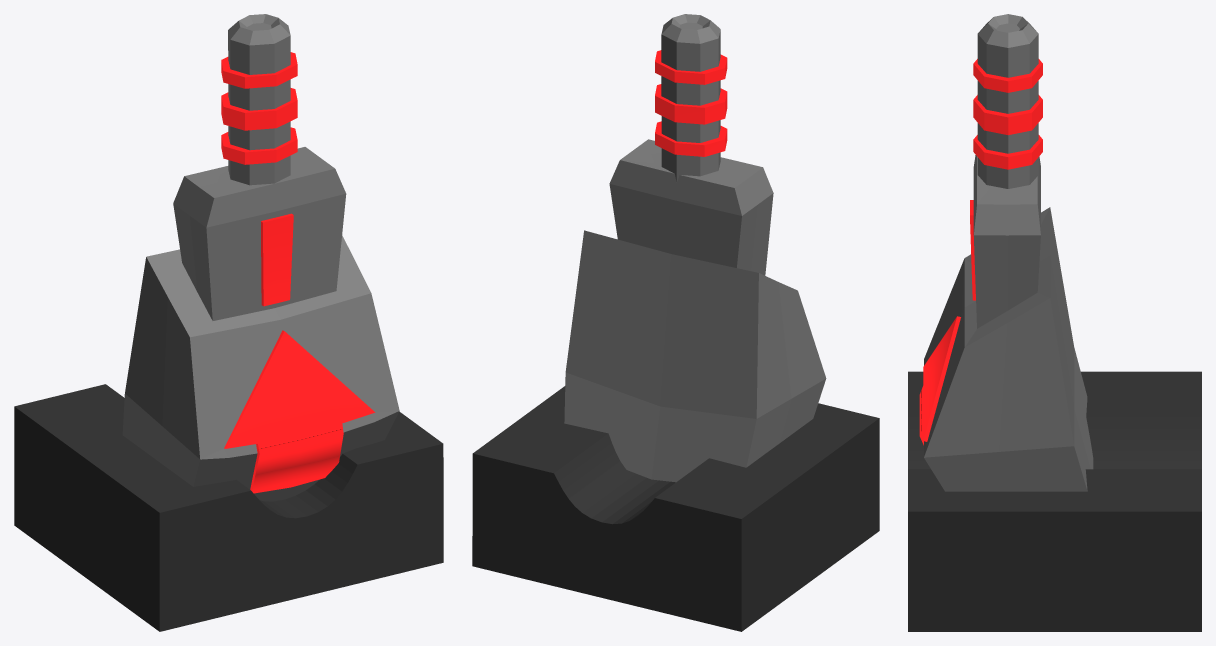
The model's file is cannon3 v3.fbx.
3 views of the same model, side by side, from view 1: azimuth 30°, elevation 25°; view 2: azimuth 150°, elevation 25°; view 3: azimuth 270°, elevation 25° (orthographic). The views are drawn at different scales.
Parts seen in each view (by area): view 1: Turret_5.003, Line001; view 2: Turret_5.003, Line001; view 3: Line001, Turret_5.003.
Boxes of the visible parts, x1=… form: Turret_5.003: x1=122, y1=14, x2=399, y2=501; Line001: x1=14, y1=384, x2=443, y2=631; Turret_5.003: x1=564, y1=14, x2=826, y2=482; Line001: x1=472, y1=386, x2=879, y2=631; Line001: x1=908, y1=371, x2=1201, y2=631; Turret_5.003: x1=919, y1=14, x2=1093, y2=491.
Bounding box in the file's own units: 1566 × 2828 × 1390.
